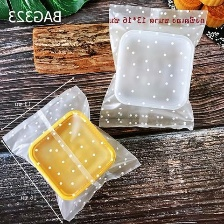snack: (0, 79, 146, 224), (90, 0, 213, 134)
